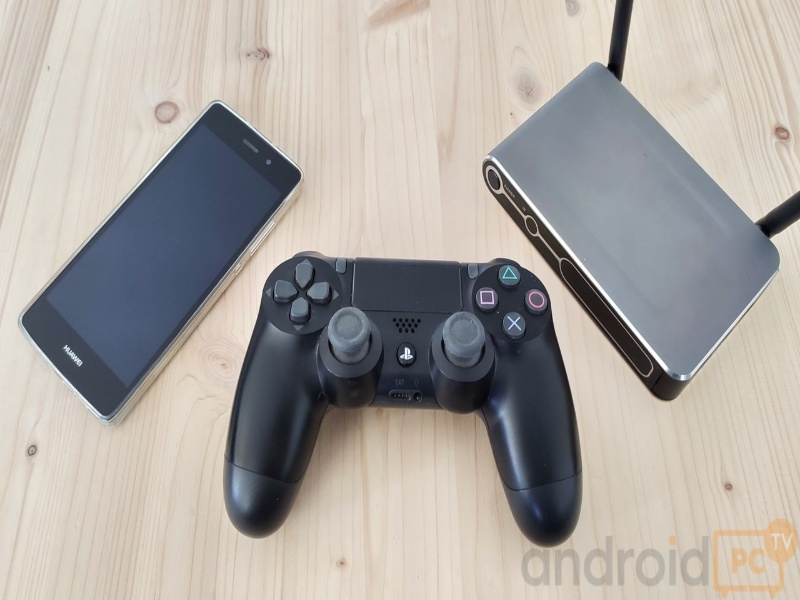ps4 joystick: (223, 249, 581, 545)
